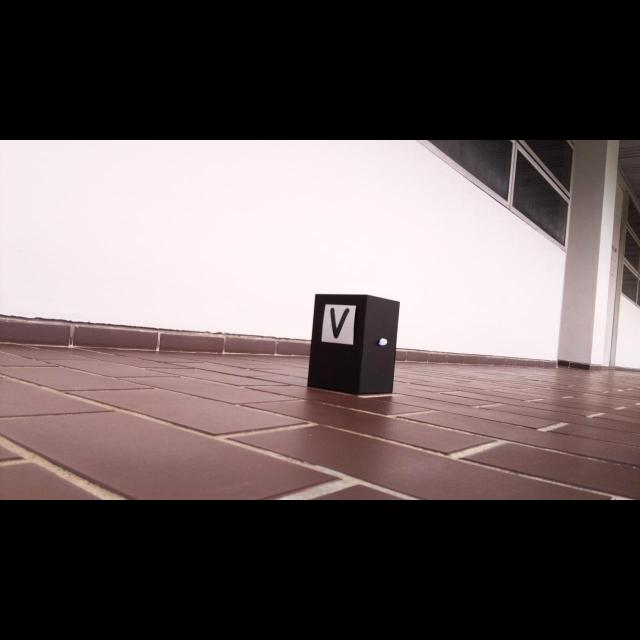V: (330, 307, 350, 339)
